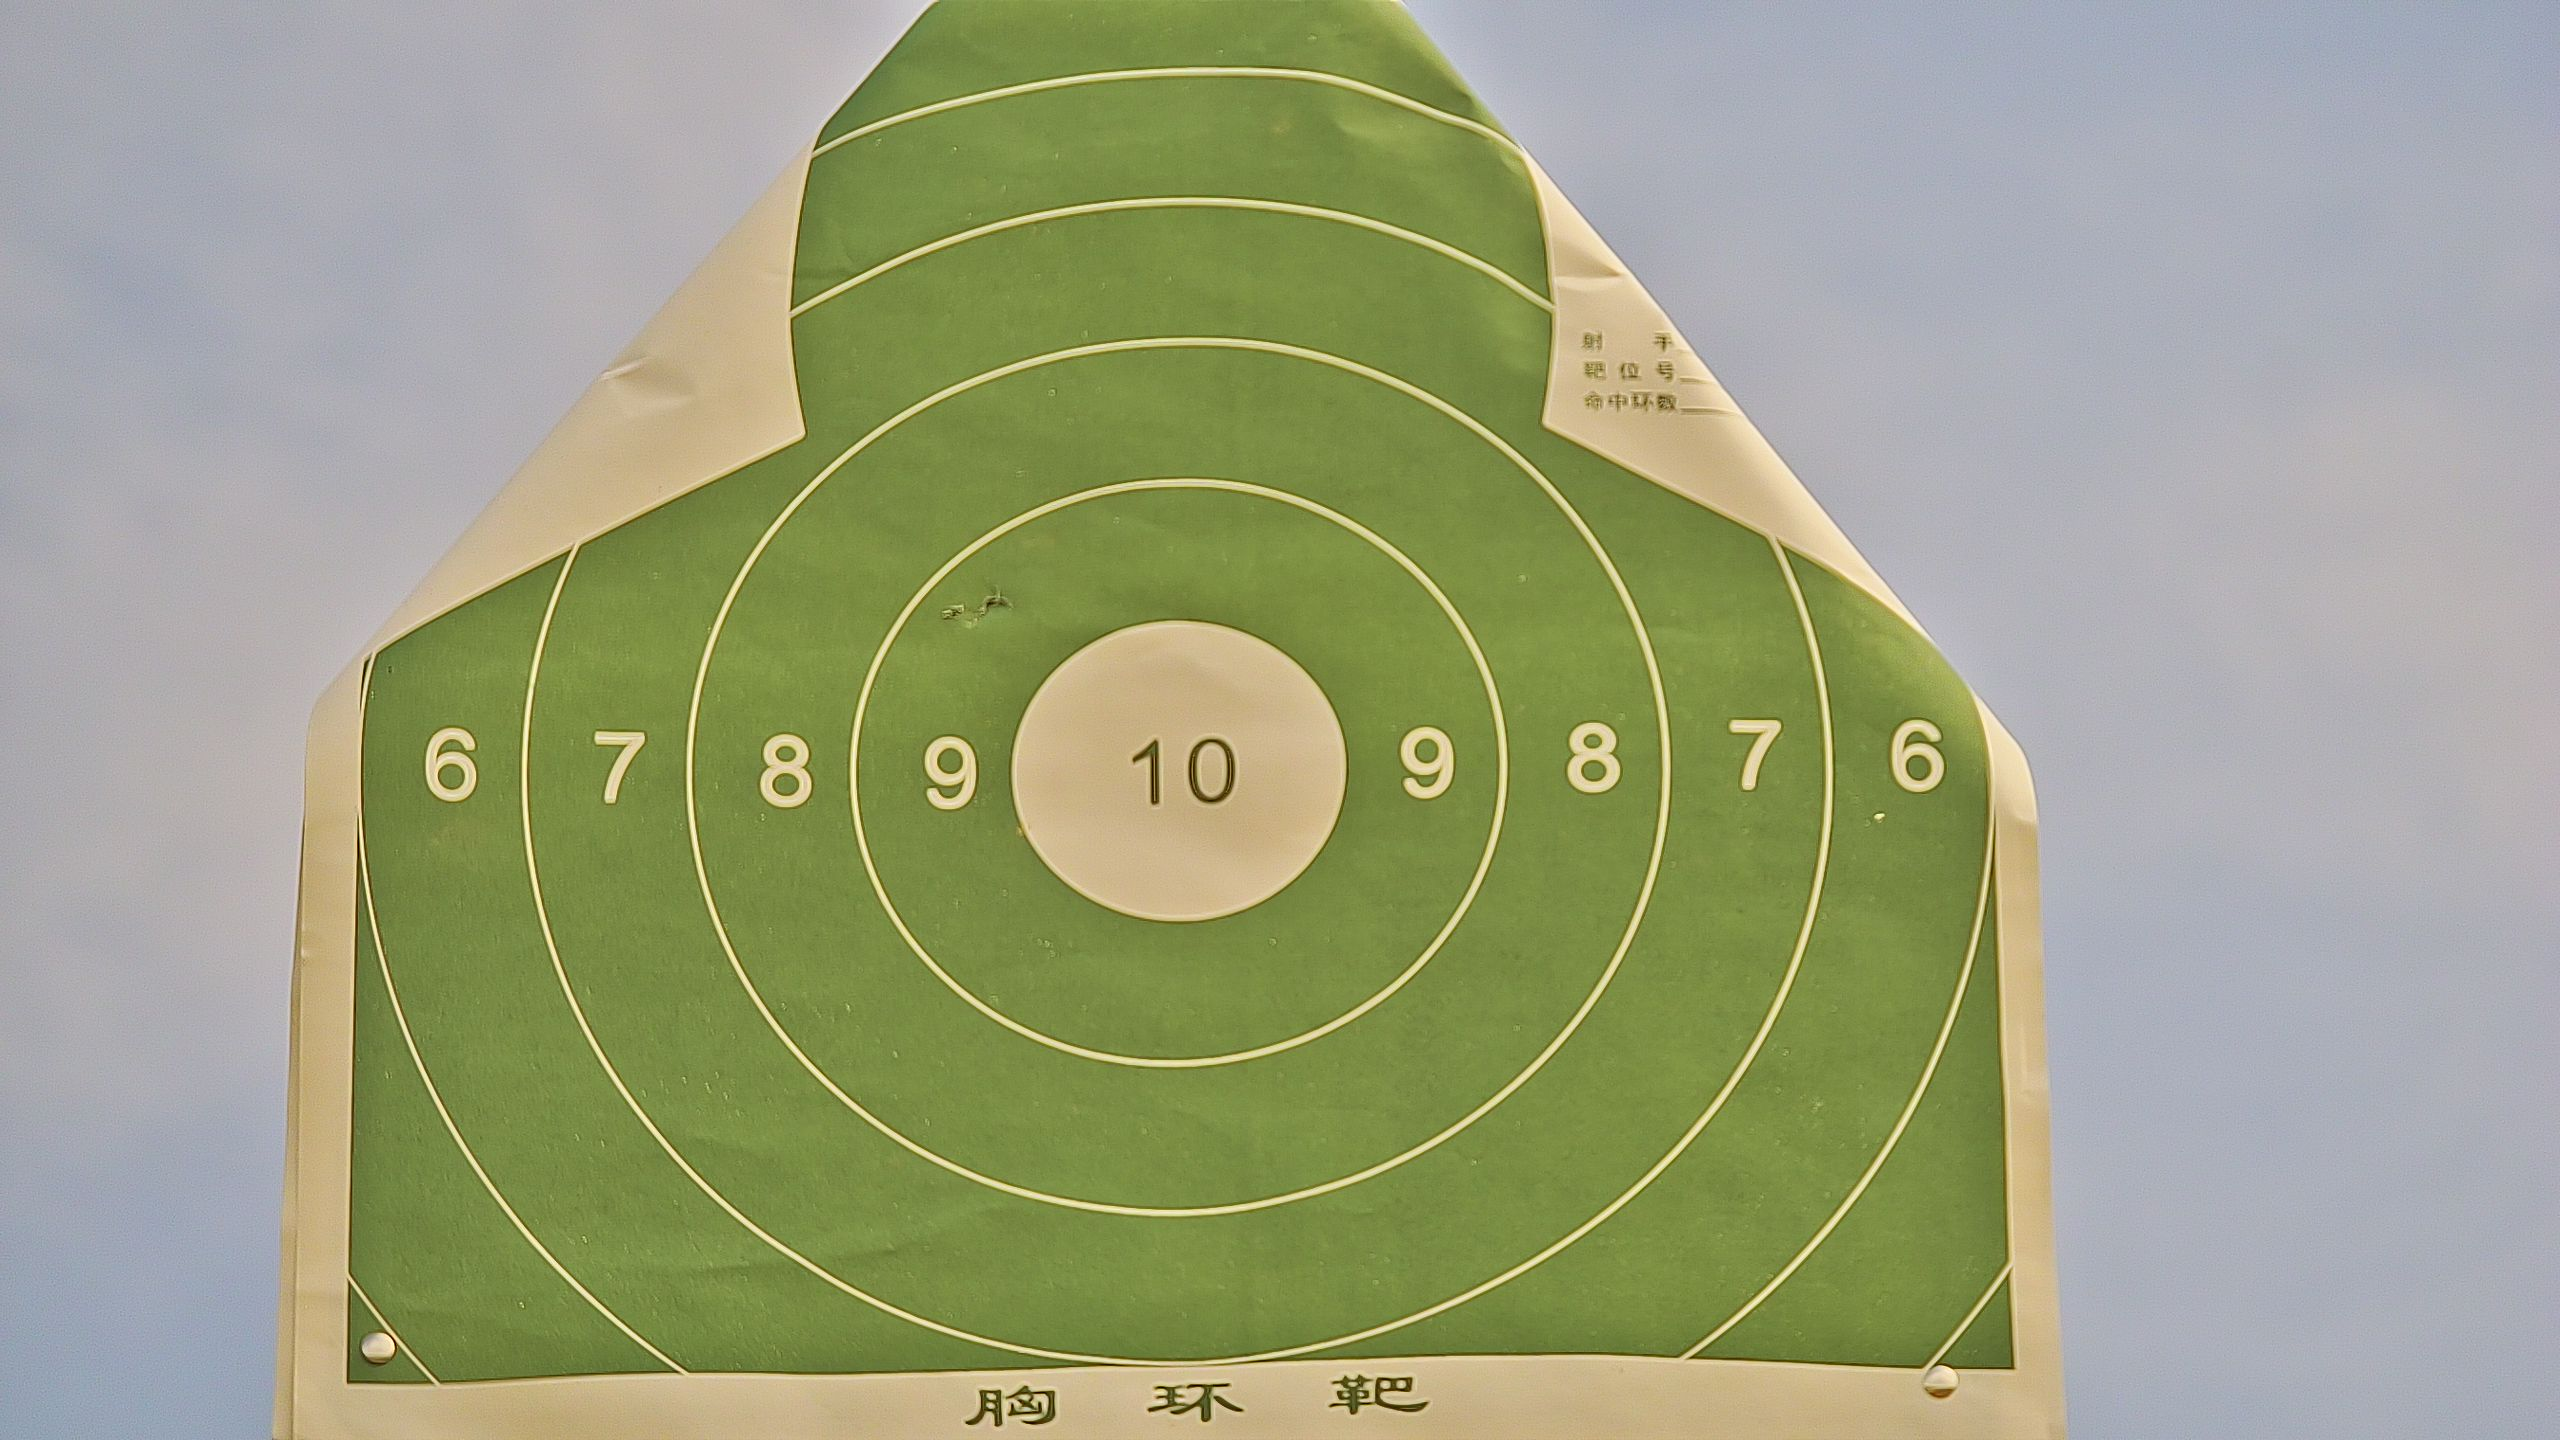target: (355, 11, 2011, 1410)
ten: (1006, 617, 1350, 928)
